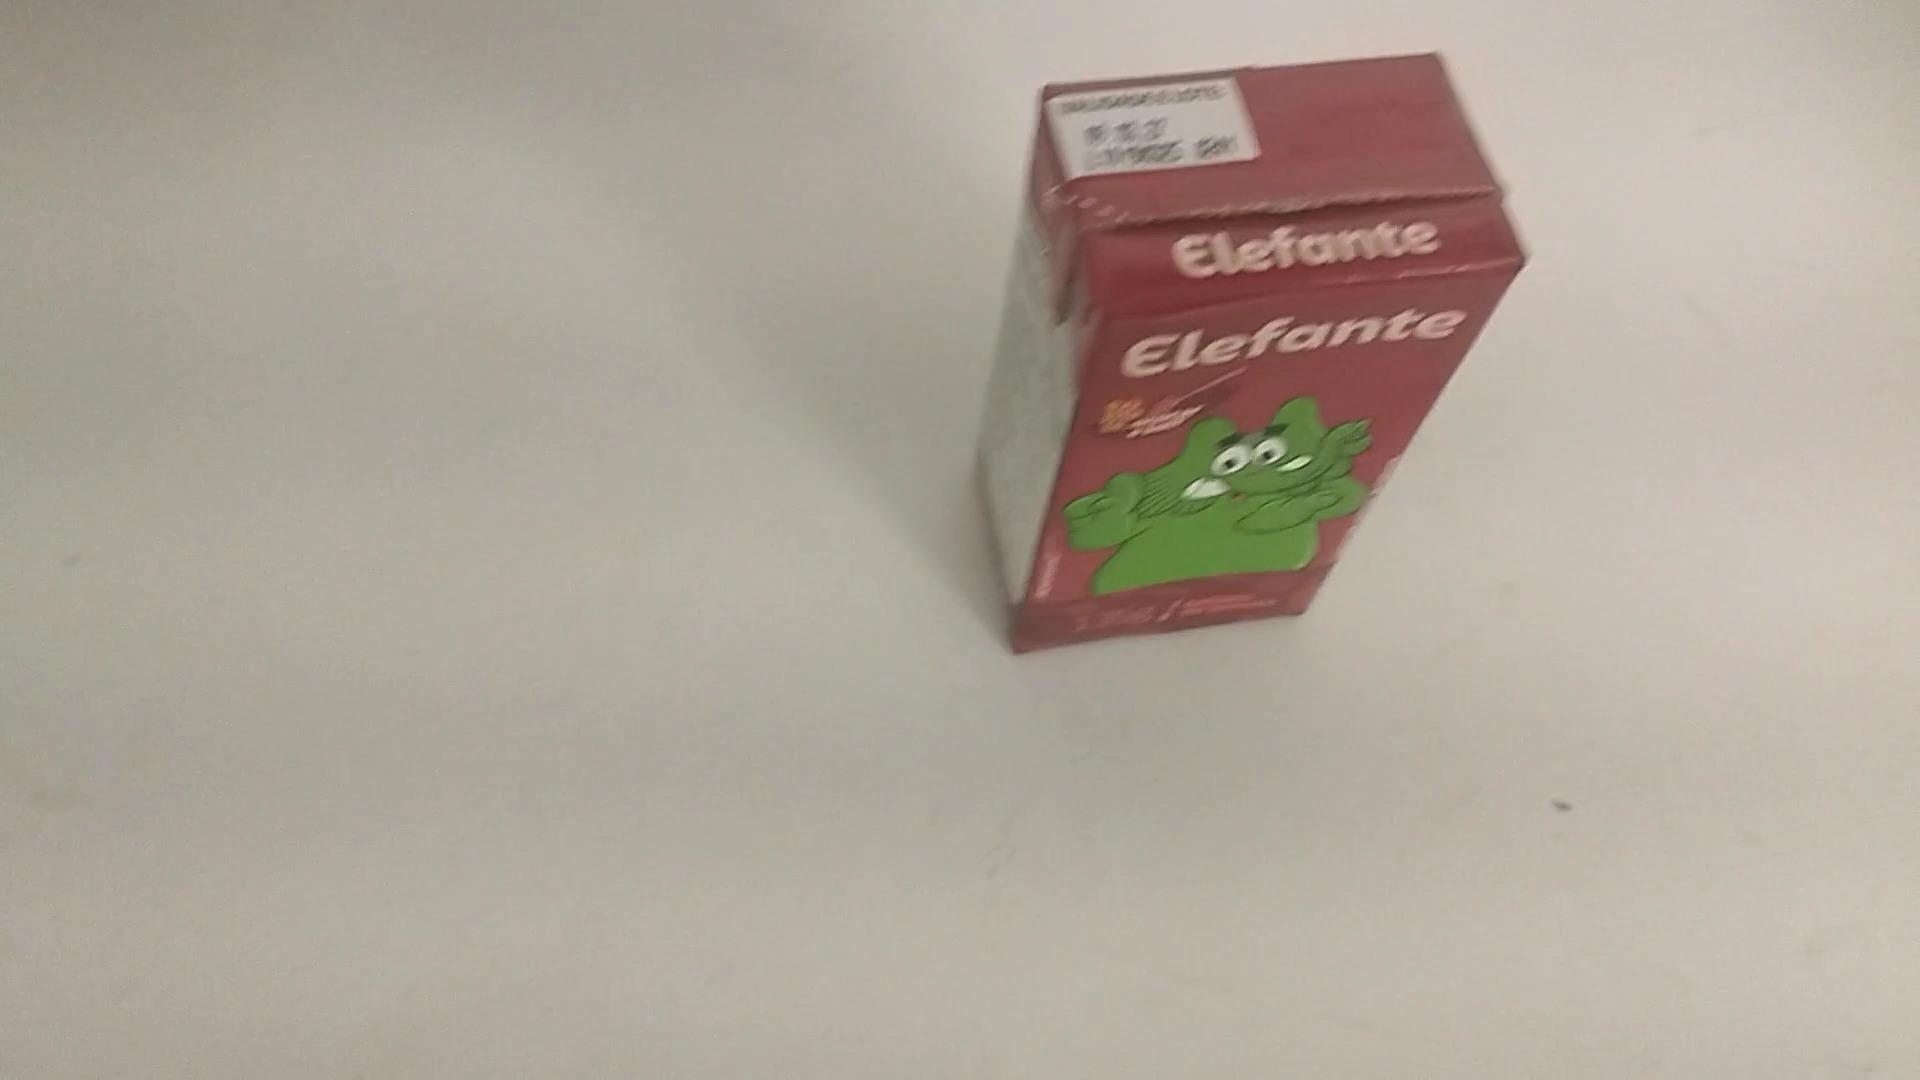tomate: (967, 49, 1540, 674)
